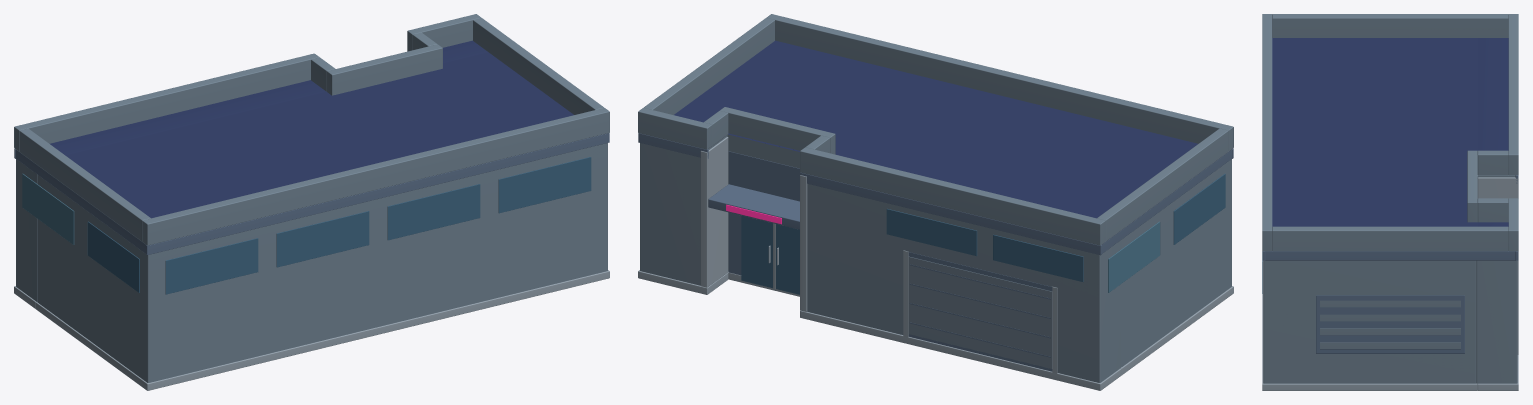
Rendered from d04_podiums_03.glb.
3 renders of one model, left to right at view 1: azimuth 30°, elevation 25°; view 2: azimuth 150°, elevation 25°; view 3: azimuth 270°, elevation 25°, orthographic. The views are drawn at different scales.
Parts seen in each view (by area): view 1: D04Podiums03_Mesh; view 2: D04Podiums03_Mesh; view 3: D04Podiums03_Mesh.
Part boxes in pixels (x1,y1,x2,y2): D04Podiums03_Mesh: (14,14,609,390); D04Podiums03_Mesh: (638,14,1233,390); D04Podiums03_Mesh: (1262,14,1518,390).
Size of the model in its own units: 20 by 6.9 by 10.
